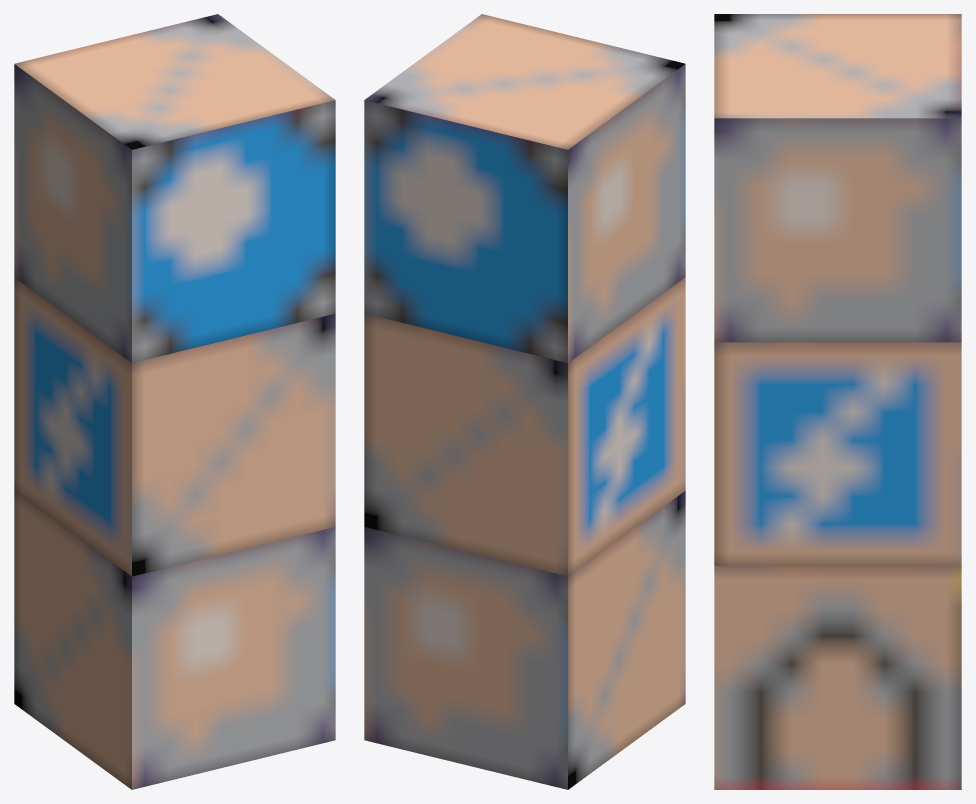
Rendered from trisstex1.obj.
The picture shows the model from 3 angles, left to right: view 1: azimuth 30°, elevation 25°; view 2: azimuth 150°, elevation 25°; view 3: azimuth 270°, elevation 25°; orthographic projection. The views are drawn at different scales.
Visible parts, largest first — view 1: sstex1; view 2: sstex1; view 3: sstex1.
Part boxes in pixels (left/top/right/bottom): sstex1: left=14, top=14, right=335, bottom=789; sstex1: left=364, top=14, right=685, bottom=789; sstex1: left=714, top=14, right=961, bottom=789.
Size of the model in its own units: 1 by 3 by 1.
1 material, 1 textured.
